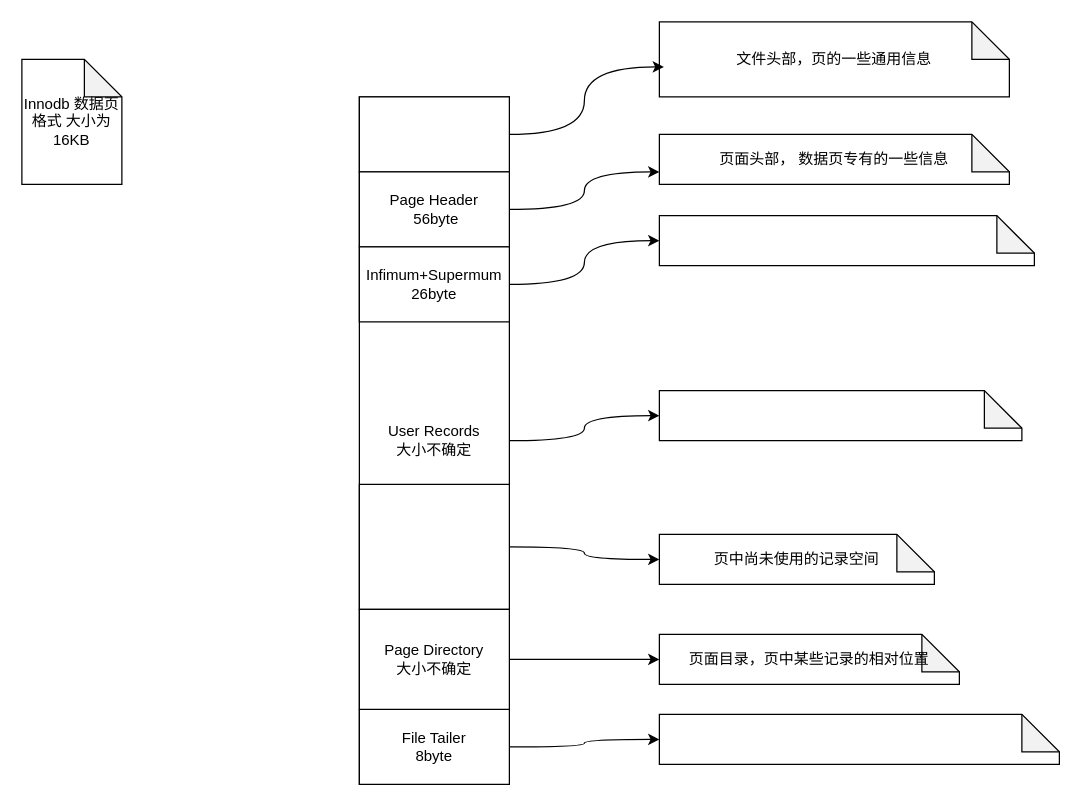
Some shapes in this 1081 by 806 pixel diagram are drawn without their labels. Here are the shapes that lost their labels. From the top down, the centre of each, then its label:
At (433,134): "File Header 38byte".
At (846,240): "最小记录和最大记录，两个虚拟的行记录".
At (840,415): "实际存储的行记录内容".
At (433,546): "Free Space 大小不确定".
At (858,738): "文件尾部，校验页是否完整".
